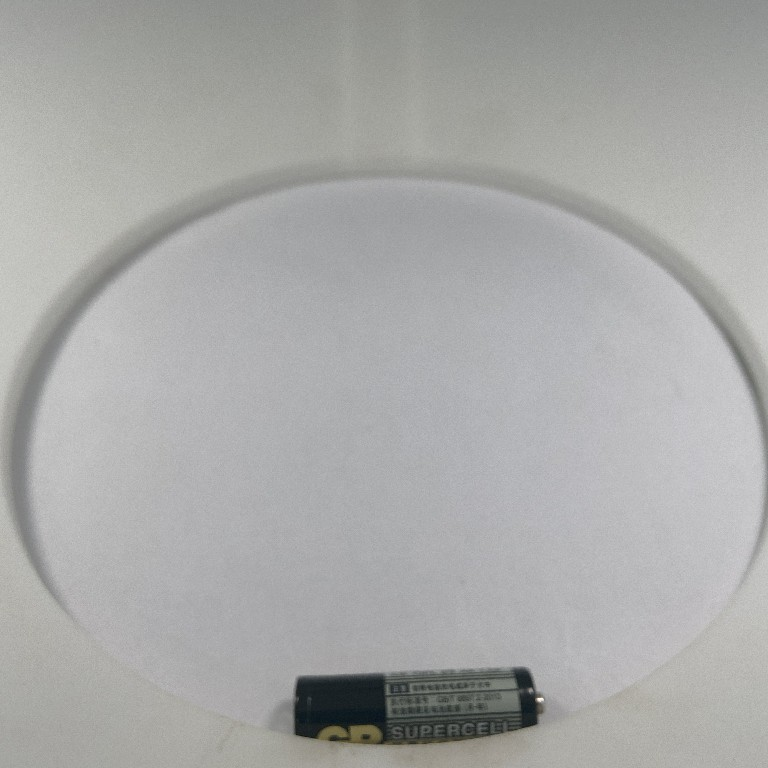charge: (289, 663, 544, 750)
